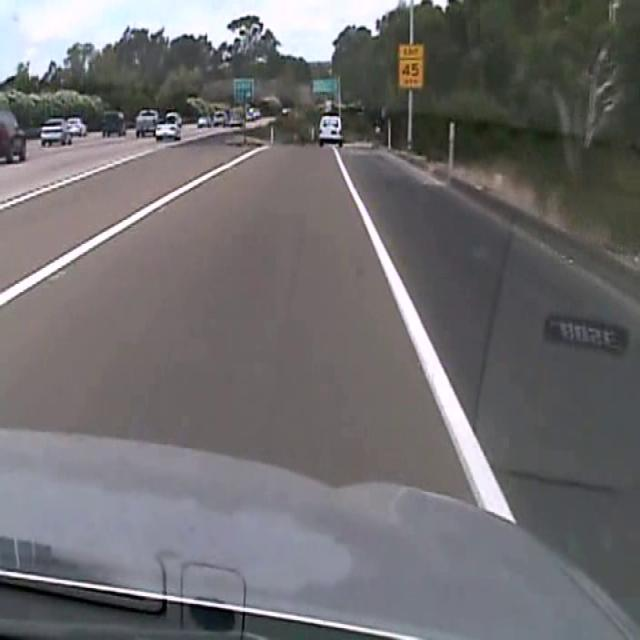speedLimit45: (397, 41, 424, 88)
